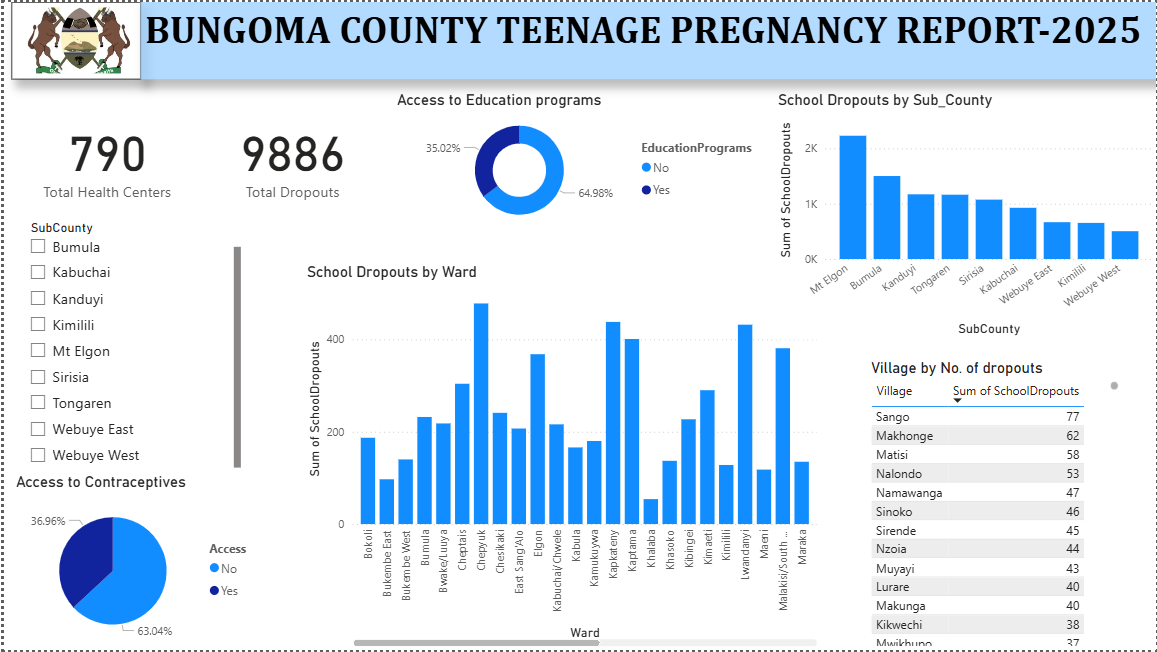

This screenshot's page, from the dashboard's own definition file:
{"tool":"powerbi","page":{"name":"Page 1","canvas":[1280,720],"ordinal":0},"visuals":[{"type":"pieChart","title":"Access to Contraceptives","fields":{"Category":["bungoma.ContraceptiveAccess"],"Y":["CountNonNull(bungoma.ContraceptiveAccess)"]},"box":[8.1,523,286.6,197.5],"z":0},{"type":"donutChart","title":"Access to Education programs ","fields":{"Y":["CountNonNull(bungoma.EducationPrograms)"],"Category":["bungoma.EducationPrograms"]},"box":[432.3,98.8,411.3,157.1],"z":1},{"type":"card","fields":{"Values":["bungoma.Total Health Centers"]},"box":[8.1,115,212.1,113.3],"z":2},{"type":"card","title":"Number of Dropouts","fields":{"Values":["bungoma.Total Dropouts"]},"box":[220.2,115,200.8,113.3],"z":3},{"type":"slicer","fields":{"Values":["bungoma.SubCounty"]},"box":[17.1,237.1,251.4,285.7],"z":4},{"type":"clusteredColumnChart","title":"School Dropouts by Ward","fields":{"Category":["bungoma.Ward"],"Y":["Sum(bungoma.SchoolDropouts)"]},"box":[331.9,289.8,576.4,430.7],"z":5},{"type":"tableEx","title":"Village by No. of dropouts","fields":{"Values":["bungoma.Village","Sum(bungoma.SchoolDropouts)"]},"box":[958.6,396.7,285,323.8],"z":6},{"type":"clusteredColumnChart","title":"School Dropouts by Sub_County","fields":{"Category":["bungoma.SubCounty"],"Y":["Sum(bungoma.SchoolDropouts)"]},"box":[855,98.8,425.9,276.9],"z":7},{"type":"image","box":[8.6,0,144.3,85.7],"z":9},{"type":"textbox","box":[152.2,0,1128.6,85.8],"z":10}]}

Visuals, with their boxes in screenshot pixels (x1, y1, x2, y2), scaled from the page's 1280x720 canvas onto the 1157x652 screenshot:
"Access to Contraceptives" pieChart: l=7, t=474, r=266, b=651
"Access to Education programs " donutChart: l=391, t=89, r=763, b=232
card - bungoma.Total Health Centers: l=7, t=104, r=199, b=207
"Number of Dropouts" card: l=199, t=104, r=381, b=207
slicer - bungoma.SubCounty: l=15, t=215, r=243, b=473
"School Dropouts by Ward" clusteredColumnChart: l=300, t=262, r=821, b=651
"Village by No. of dropouts" tableEx: l=866, t=359, r=1124, b=651
"School Dropouts by Sub_County" clusteredColumnChart: l=773, t=89, r=1156, b=340
image: l=8, t=0, r=138, b=78
textbox: l=138, t=0, r=1156, b=78
